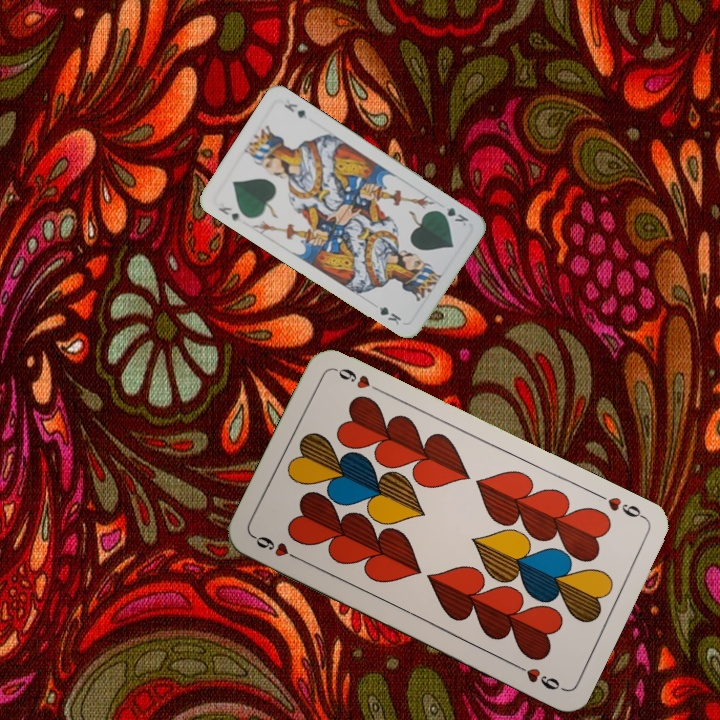GK: (433, 203, 471, 229), (214, 203, 241, 224)
H9: (250, 531, 305, 564), (593, 489, 648, 522)
